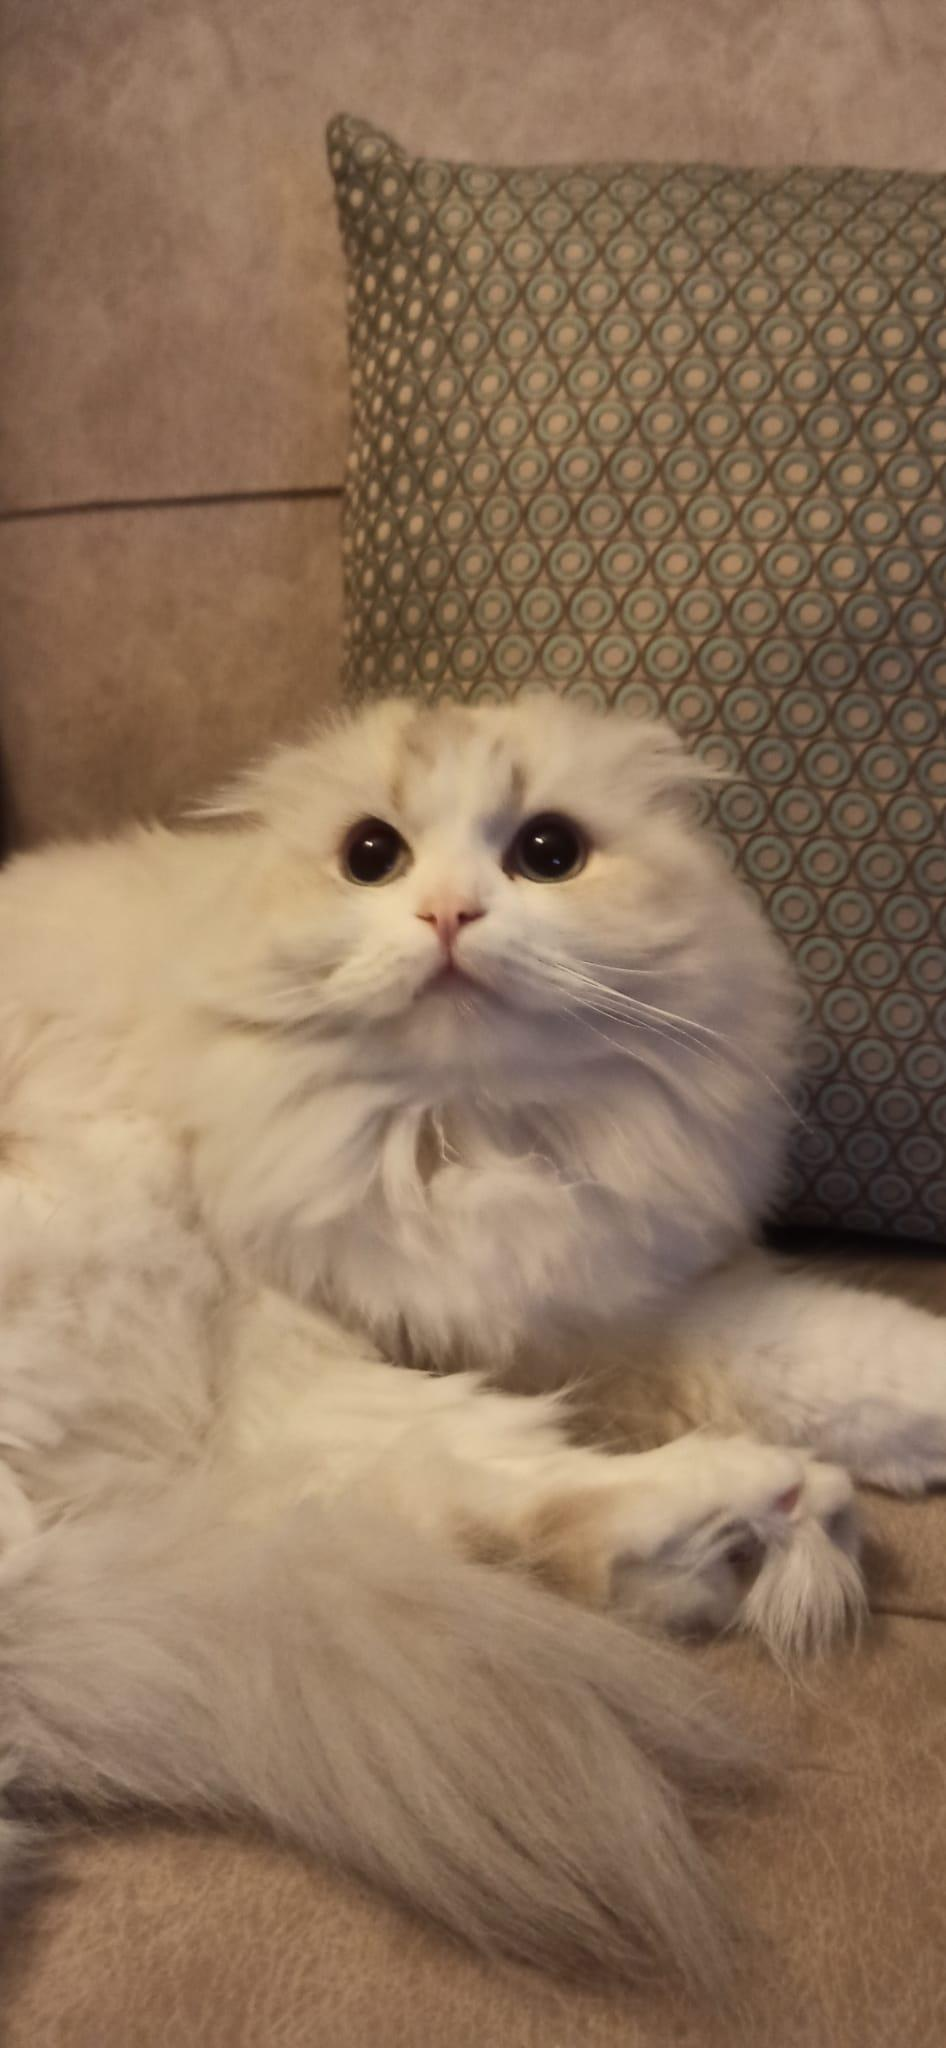kedo: (7, 680, 946, 1968)
